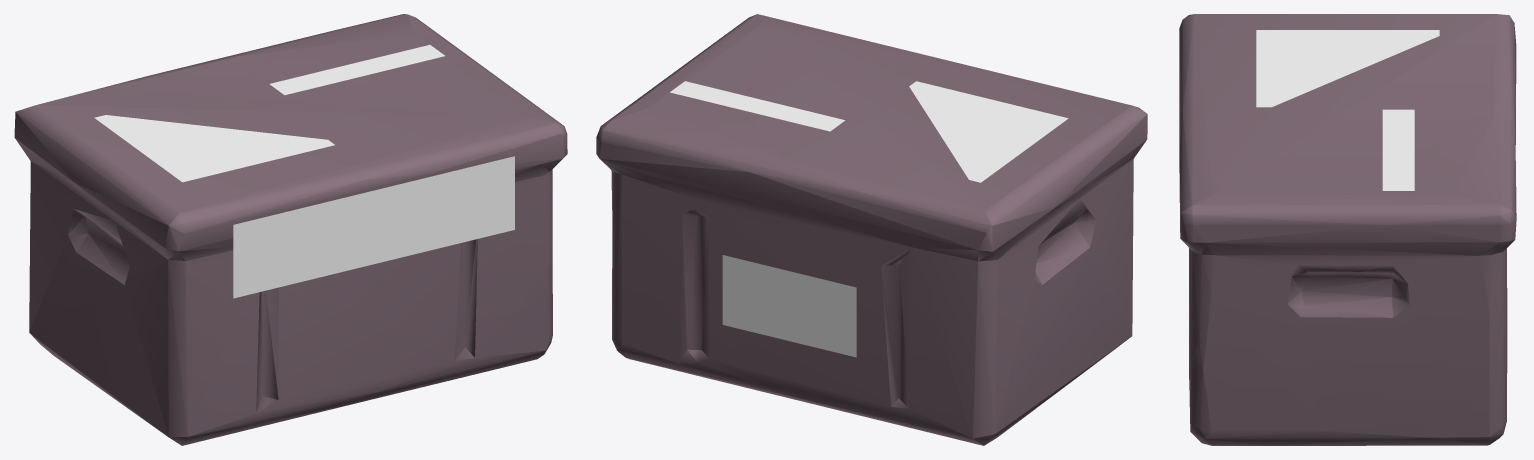
File: caisse_s_a.glb
3 views of the same model, side by side, from view 1: azimuth 30°, elevation 25°; view 2: azimuth 150°, elevation 25°; view 3: azimuth 270°, elevation 25° (orthographic). The views are drawn at different scales.
Visible parts, largest first — view 1: caisse_s_a, caisse_s_a_decal; view 2: caisse_s_a, caisse_s_a_decal; view 3: caisse_s_a, caisse_s_a_decal.
Part boxes in pixels (box(x1,y1,x2,y2)): caisse_s_a: box(14, 14, 567, 445); caisse_s_a_decal: box(94, 45, 514, 298); caisse_s_a: box(596, 14, 1147, 445); caisse_s_a_decal: box(670, 81, 1068, 357); caisse_s_a: box(1179, 14, 1516, 445); caisse_s_a_decal: box(1256, 30, 1439, 190).
Size of the model in its own units: 0.5996 by 0.346 by 0.428.
